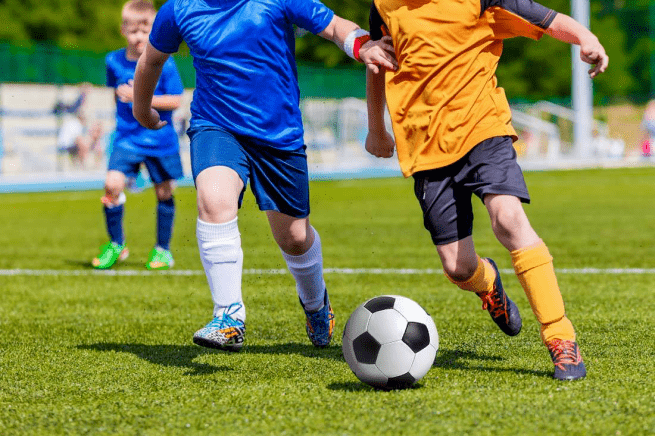football: (340, 295, 441, 391)
